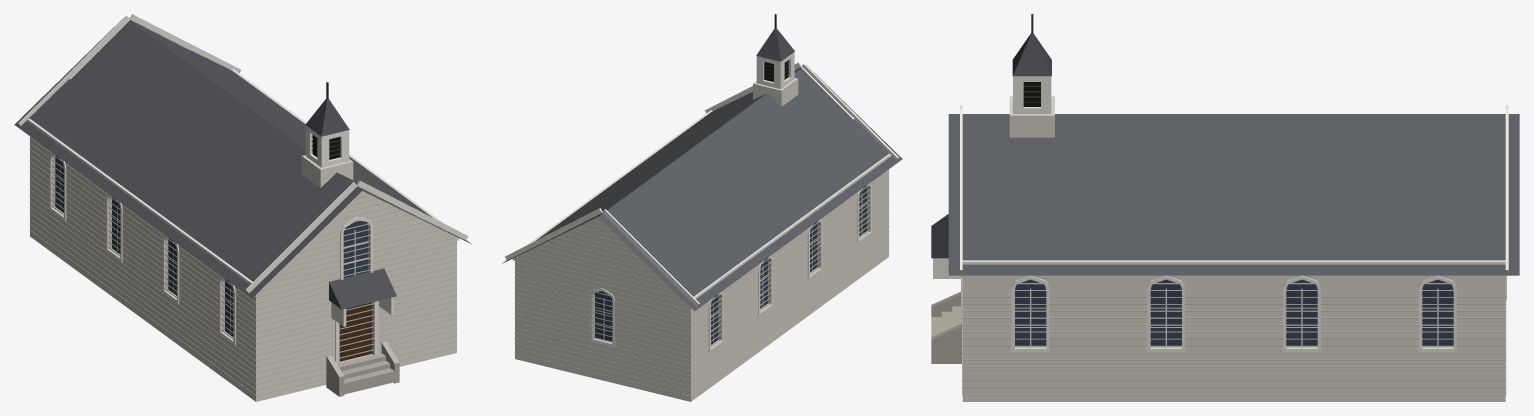
File: ch-bullock-chapel-1913.glb
3 renders of one model, left to right at view 1: azimuth 30°, elevation 25°; view 2: azimuth 150°, elevation 25°; view 3: azimuth 270°, elevation 25°, orthographic. The views are drawn at different scales.
Visible parts, largest first — view 1: ch_roof, ch_brick, ch_brick2, ch_trim, ch_roof2, ch_stain, ch_conc, ch_door; view 2: ch_roof, ch_brick, ch_brick2, ch_trim, ch_stain, ch_roof2; view 3: ch_roof, ch_brick, ch_brick2, ch_trim, ch_stain, ch_conc, ch_roof2.
Part boxes in pixels (<box>): ch_roof: <box>14,17,471,298</box>; ch_brick: <box>30,136,456,401</box>; ch_brick2: <box>29,28,457,396</box>; ch_trim: <box>18,14,468,364</box>; ch_roof2: <box>305,98,396,309</box>; ch_stain: <box>55,155,367,336</box>; ch_conc: <box>326,341,399,396</box>; ch_door: <box>339,302,371,361</box>; ch_roof: <box>502,65,902,311</box>; ch_brick: <box>515,78,888,401</box>; ch_brick2: <box>514,81,889,396</box>; ch_trim: <box>505,52,898,352</box>; ch_stain: <box>595,186,866,344</box>; ch_roof2: <box>756,28,794,61</box>; ch_roof: <box>948,114,1519,275</box>; ch_brick: <box>962,96,1505,401</box>; ch_brick2: <box>962,275,1506,395</box>; ch_trim: <box>933,76,1508,351</box>; ch_stain: <box>1015,279,1453,345</box>; ch_conc: <box>931,291,961,363</box>; ch_roof2: <box>931,33,1051,258</box>.
Bounding box in the file's own units: 8.83 × 10.52 × 16.9.
